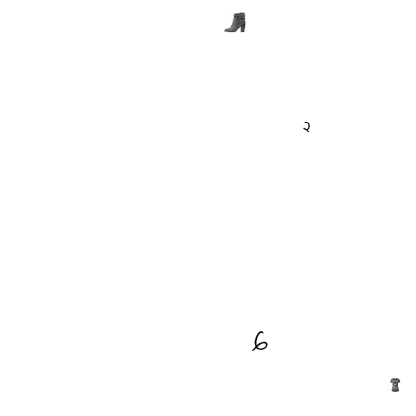2: (300, 120, 314, 134)
6: (245, 328, 273, 356)
Ankle_boot: (224, 11, 246, 33)
T-shirt/top: (388, 378, 402, 392)
